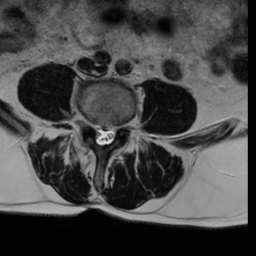CCS_stenosis: (100, 122, 108, 150)
LFS_severe_stenosis: (115, 115, 124, 135)
LLS_normal: (108, 121, 115, 147)
RFS_stenosis: (84, 113, 93, 132)
RLS_normal: (93, 119, 100, 145)
